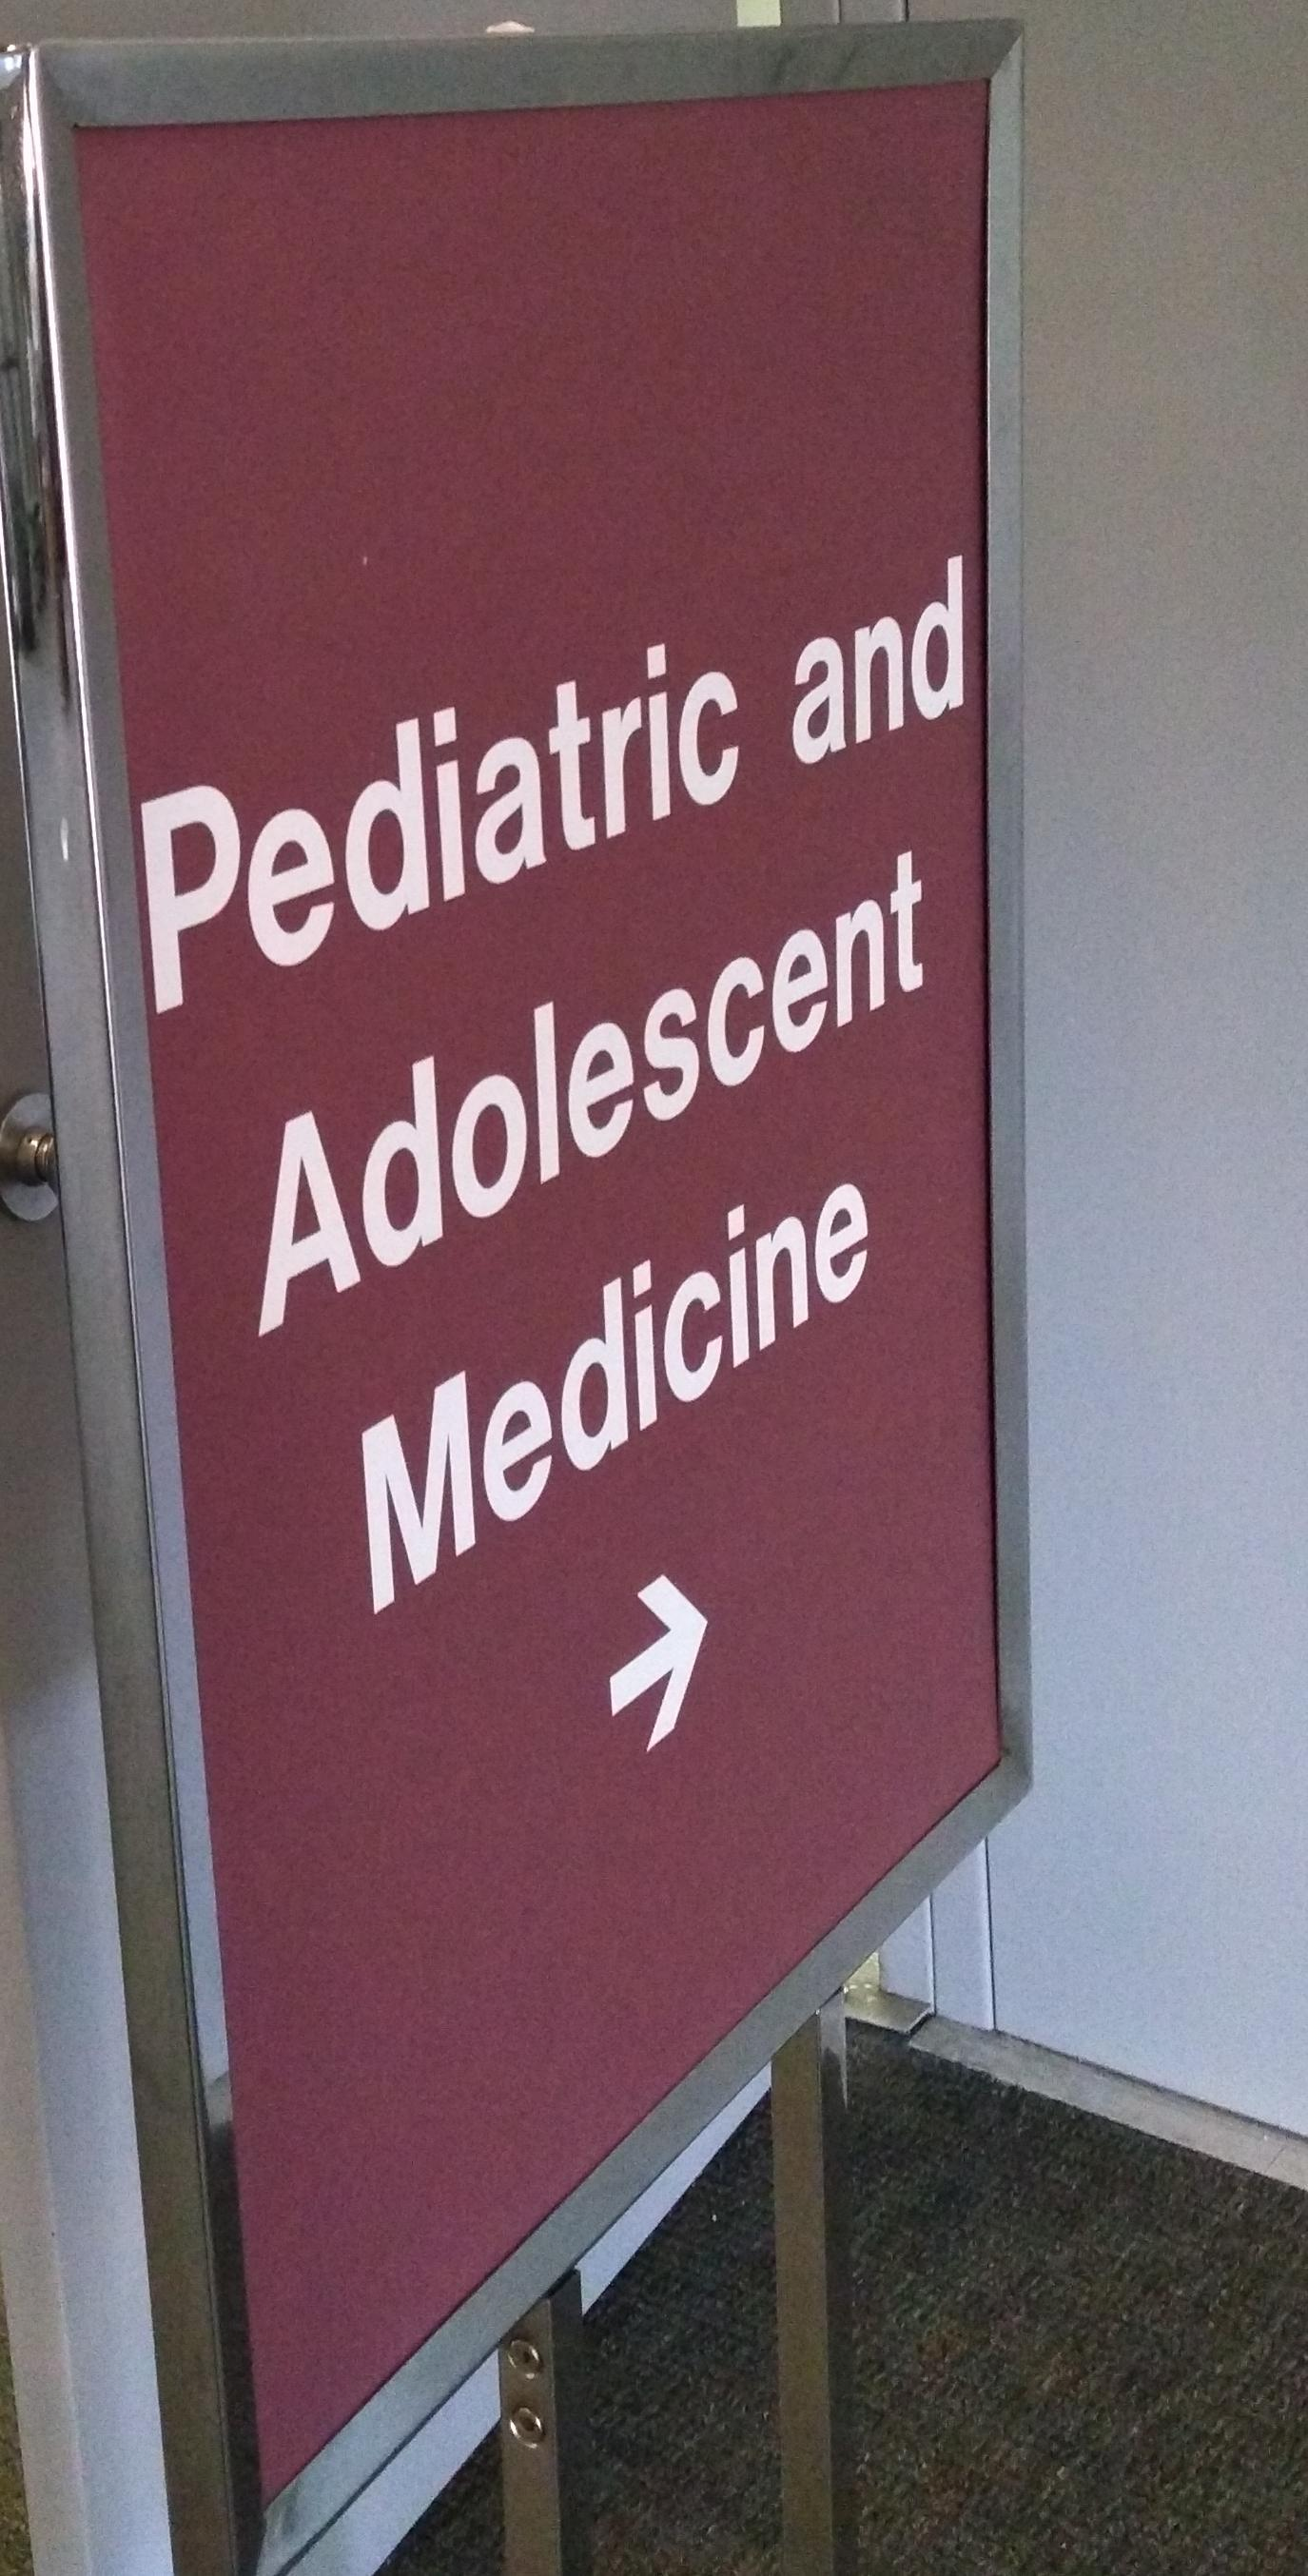sign: (3, 17, 1028, 2574)
